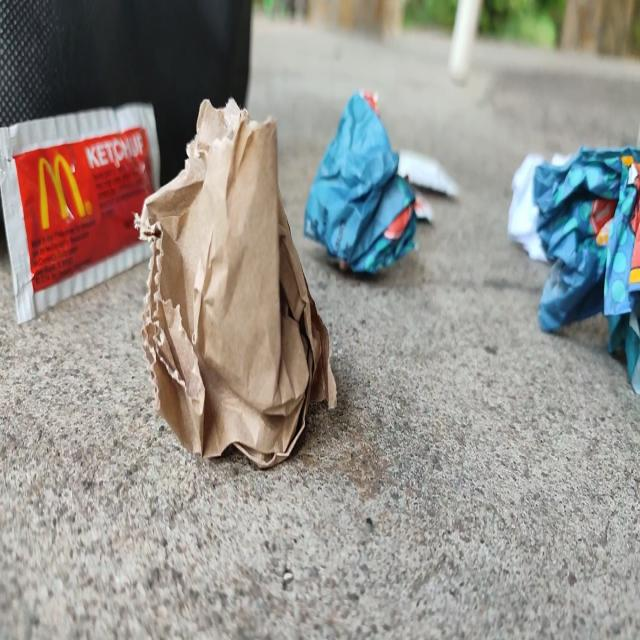paper: (137, 86, 340, 486), (533, 123, 640, 382), (305, 86, 414, 293), (496, 131, 568, 269)
